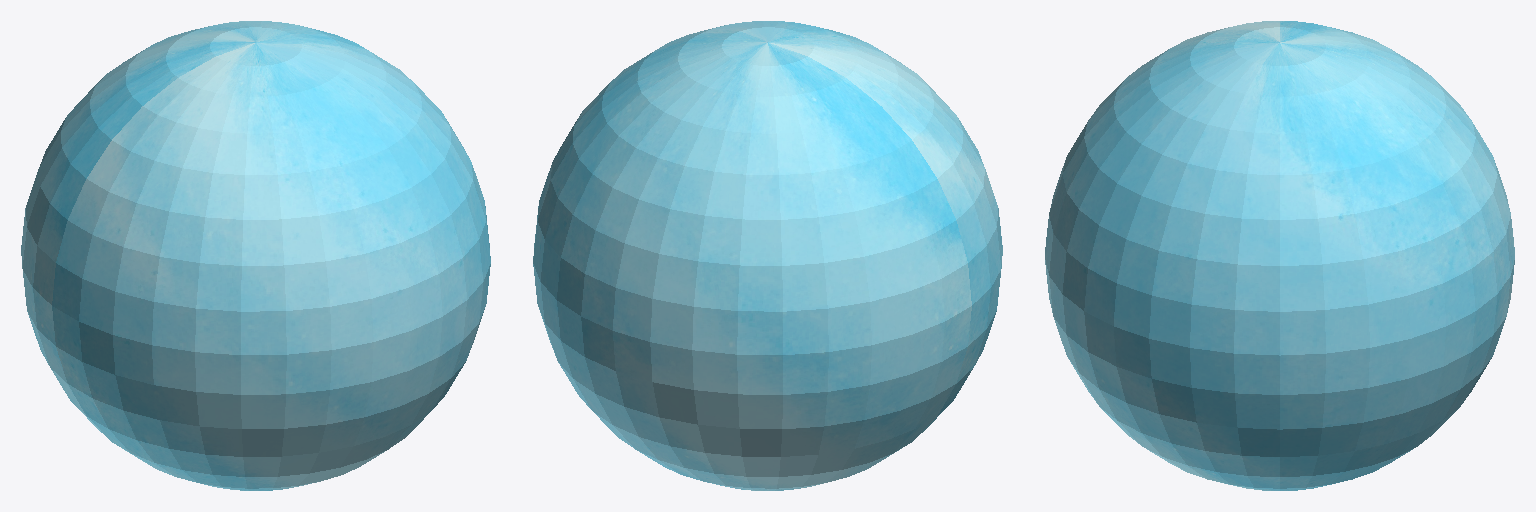
3 renders of one model, left to right at view 1: azimuth 30°, elevation 25°; view 2: azimuth 150°, elevation 25°; view 3: azimuth 270°, elevation 25°, orthographic.
Parts seen in each view (by area): view 1: 球; view 2: 球; view 3: 球.
Boxes of the visible parts, <box> form: 球: <box>21,21,490,490</box>; 球: <box>533,21,1002,490</box>; 球: <box>1045,21,1514,490</box>.
Size of the model in its own units: 1800 by 1800 by 1800.
1 materials, 1 textured.